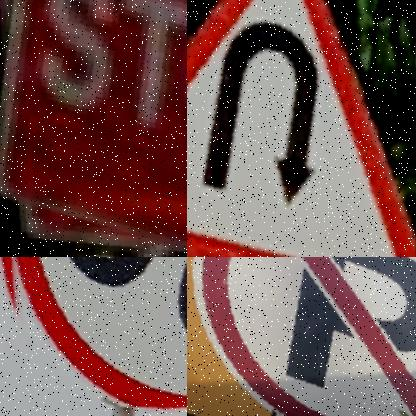No Parking: (187, 257, 416, 416)
Speed Limit (60 kmph): (13, 257, 187, 406)
U-Turn: (187, 0, 416, 257)
